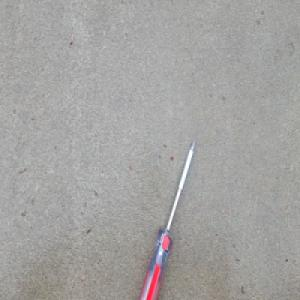Screwdriver: (134, 134, 197, 300)
